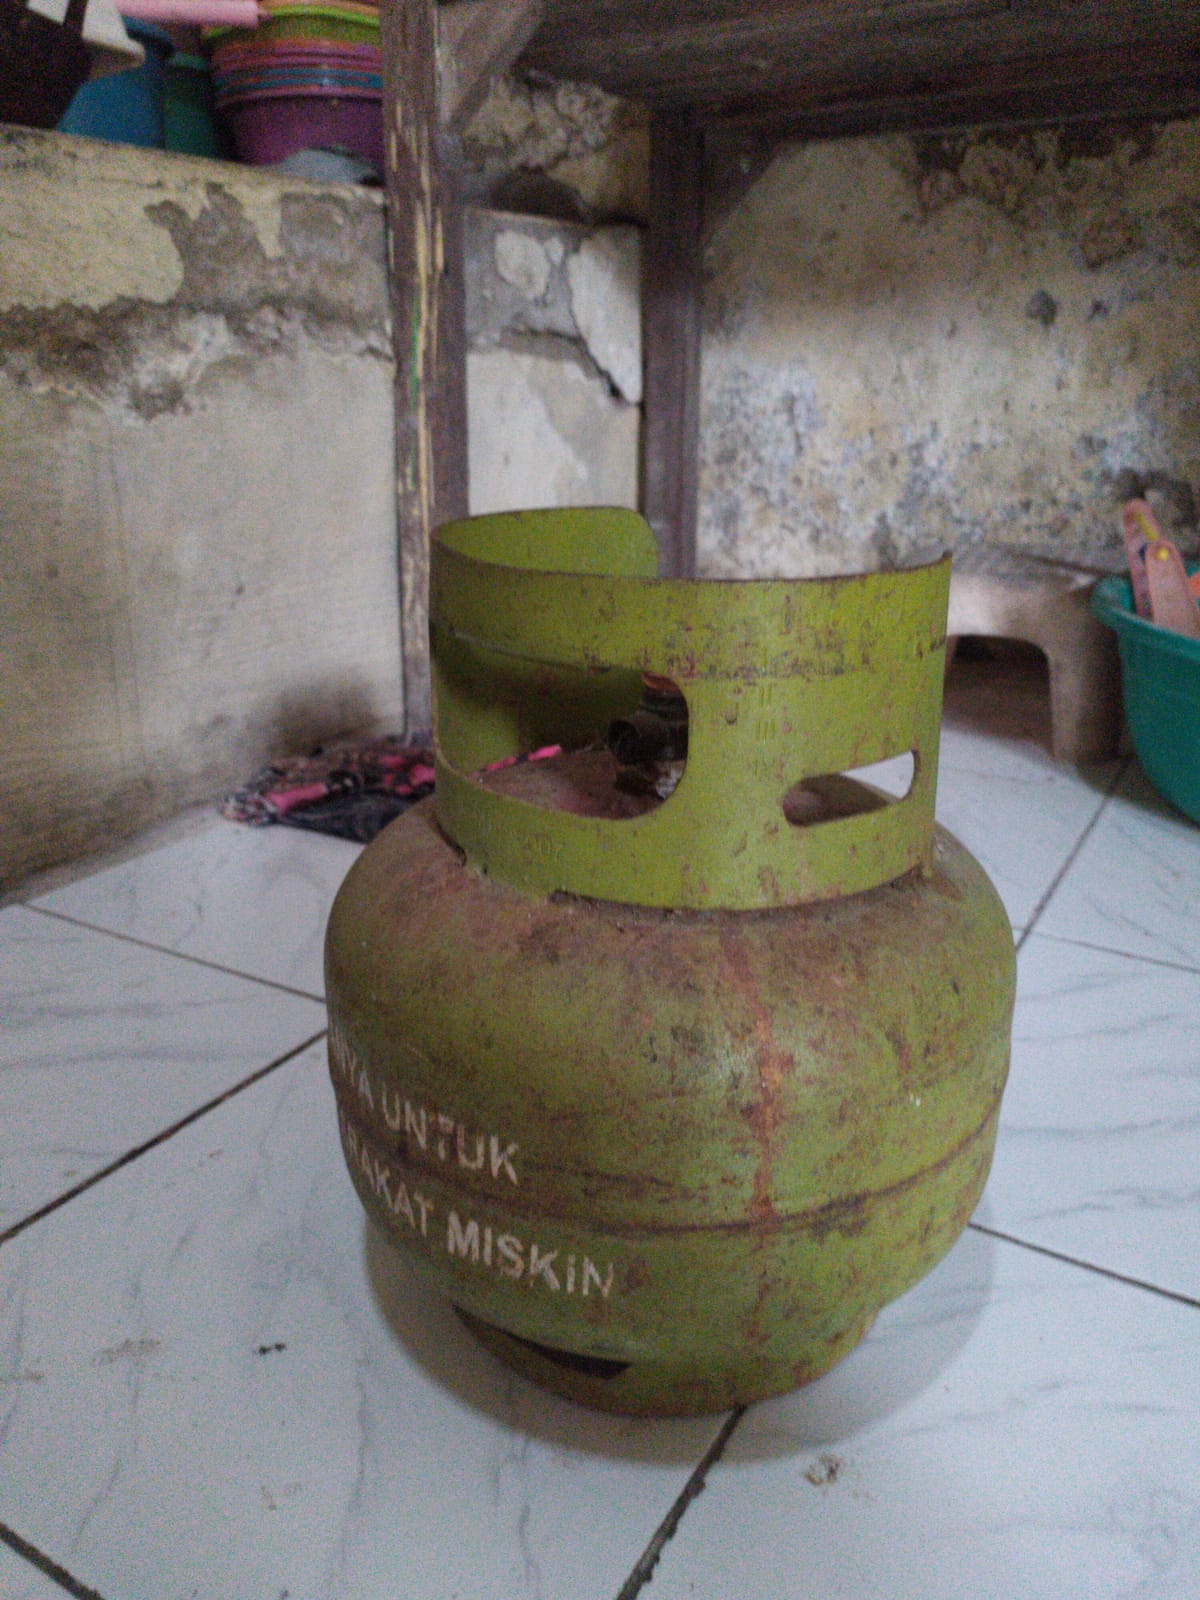gas_ijo: (323, 504, 1018, 1409)
